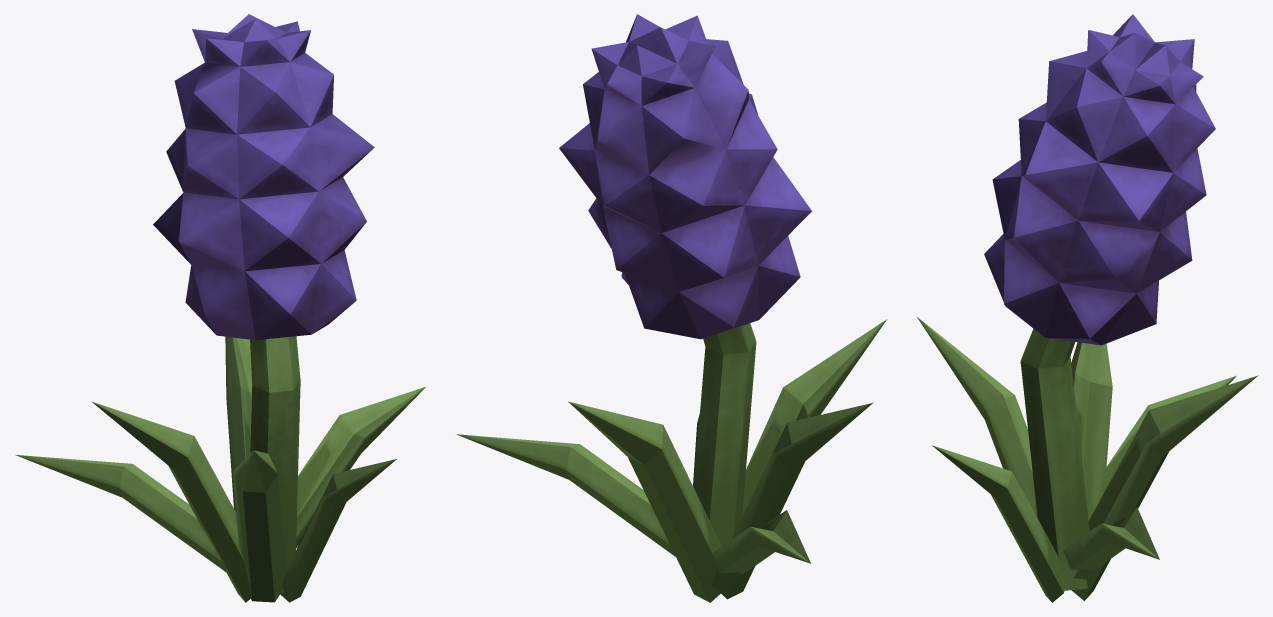
Rendered from purple_flower.glb.
3 views of the same model, side by side, from view 1: azimuth 30°, elevation 25°; view 2: azimuth 150°, elevation 25°; view 3: azimuth 270°, elevation 25° (orthographic). The views are drawn at different scales.
Parts seen in each view (by area): view 1: mesh_flower_purple.001; view 2: mesh_flower_purple.001; view 3: mesh_flower_purple.001.
Boxes of the visible parts, left/top/right/bottom form: mesh_flower_purple.001: left=15, top=14, right=425, bottom=602; mesh_flower_purple.001: left=456, top=14, right=886, bottom=602; mesh_flower_purple.001: left=916, top=14, right=1258, bottom=602.
Bounding box in the file's own units: 0.2857 × 0.4036 × 0.219.
1 material, 1 textured.
